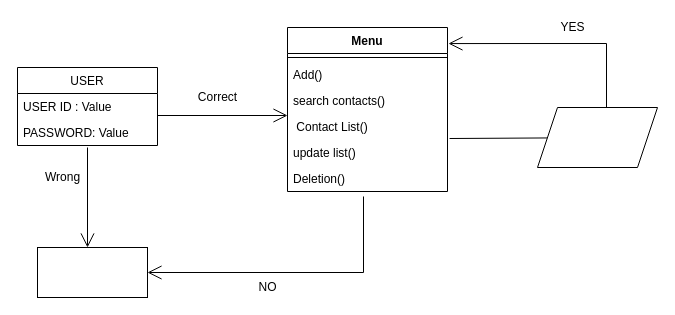
Image size: 675x315. Some labels were removed from this diagram. The shapes that lost their labels are listed below. From the top down, each one's centre as x and y in pixels, then its label:
the point at 597,137: Continue loop()
the point at 92,272: Exit() to Home
